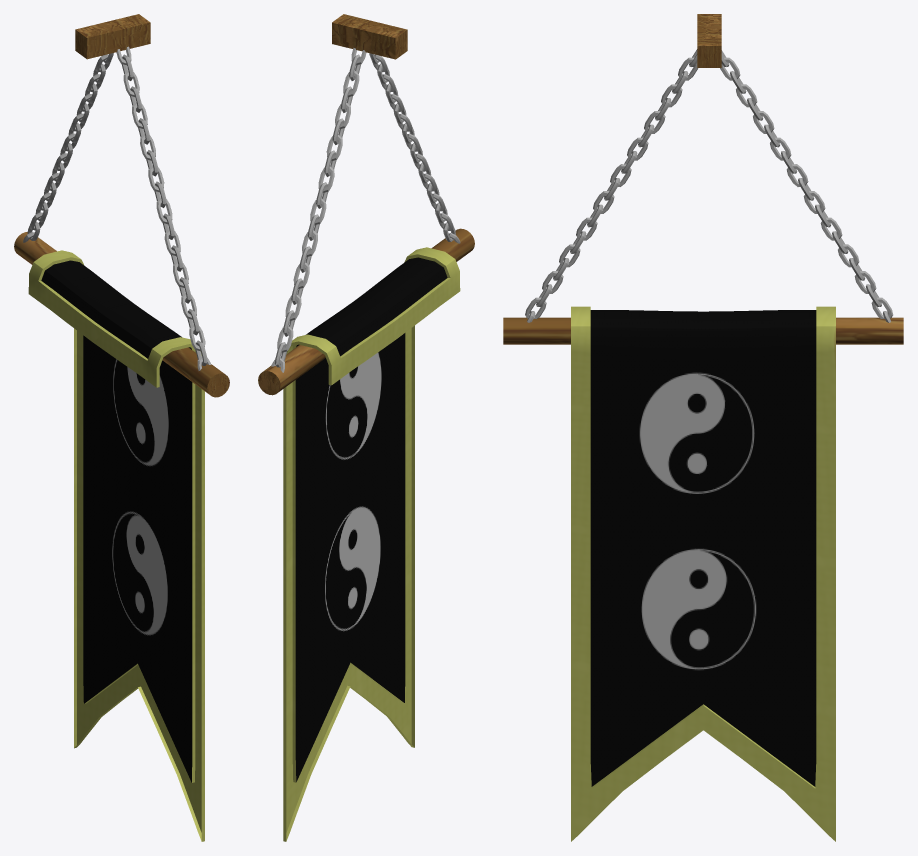
The model's file is MOD_EnemySharpFlag.fbx.
3 views of the same model, side by side, from view 1: azimuth 30°, elevation 25°; view 2: azimuth 150°, elevation 25°; view 3: azimuth 270°, elevation 25° (orthographic). The views are drawn at different scales.
Parts seen in each view (by area): view 1: sharpflag2; view 2: sharpflag2; view 3: sharpflag2.
Part boxes in pixels (x1,y1,x2,y2): sharpflag2: [14, 14, 229, 841]; sharpflag2: [258, 14, 474, 841]; sharpflag2: [503, 14, 903, 841].
Size of the model in its own units: 0.2872 by 3.33 by 1.51.
